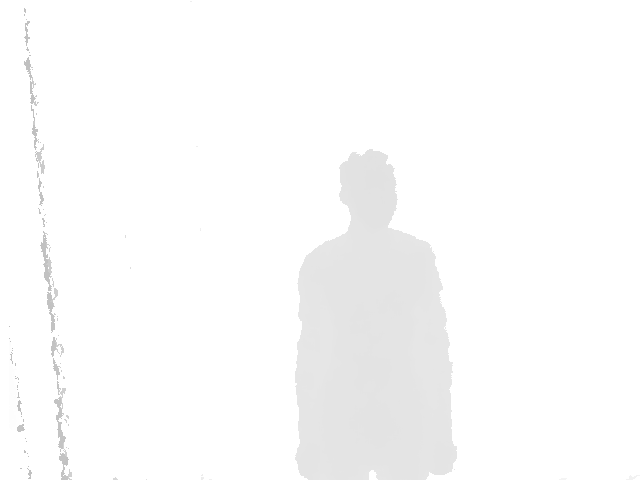head: (338, 150, 398, 227)
person: (293, 150, 458, 480)
